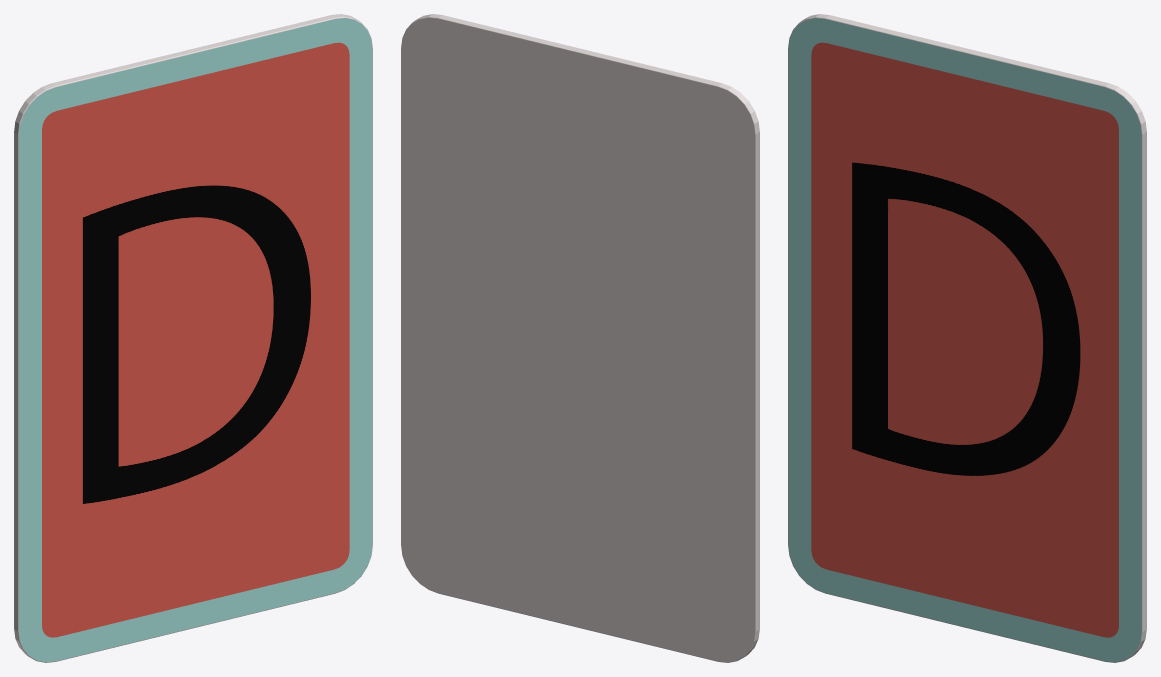
The model's file is Hearts_12.fbx.
3 views of the same model, side by side, from view 1: azimuth 30°, elevation 25°; view 2: azimuth 150°, elevation 25°; view 3: azimuth 330°, elevation 25° (orthographic).
Parts seen in each view (by area): view 1: reddame; view 2: reddame; view 3: reddame.
Part boxes in pixels (x1,y1,x2,y2): reddame: (14, 14, 372, 662); reddame: (401, 14, 759, 662); reddame: (788, 14, 1146, 662).
Bounding box in the file's own units: 200 × 310 × 4.34.
Materials: 3 (1 with a texture image).
